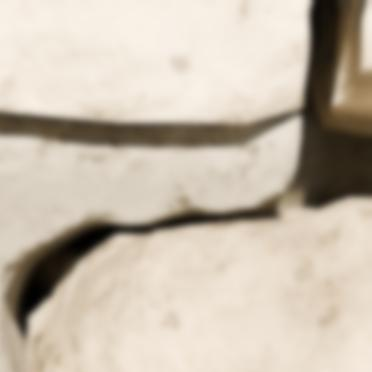brick: (44, 201, 371, 371)
broken_brick: (0, 0, 307, 123), (361, 70, 371, 74), (369, 0, 371, 10)
crack: (0, 0, 371, 371)
